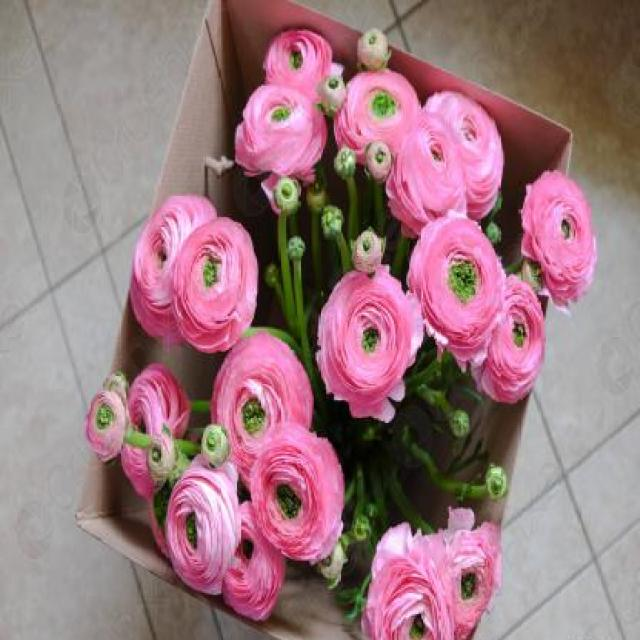box: (74, 0, 603, 640)
